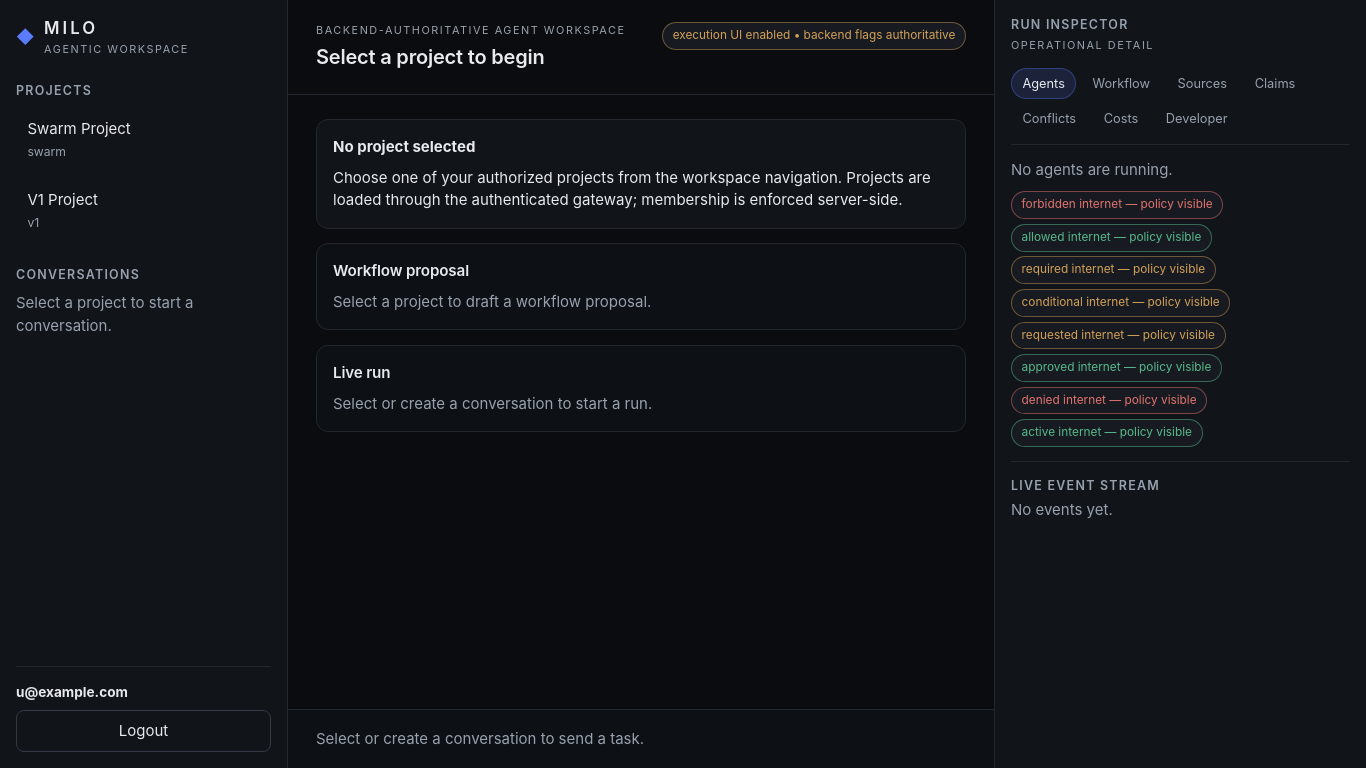
the Mapping Plan surface › shows how the words were read, in authored copy
Click the text "Swarm Project".
click(79, 128)  # box [27, 119, 131, 138]
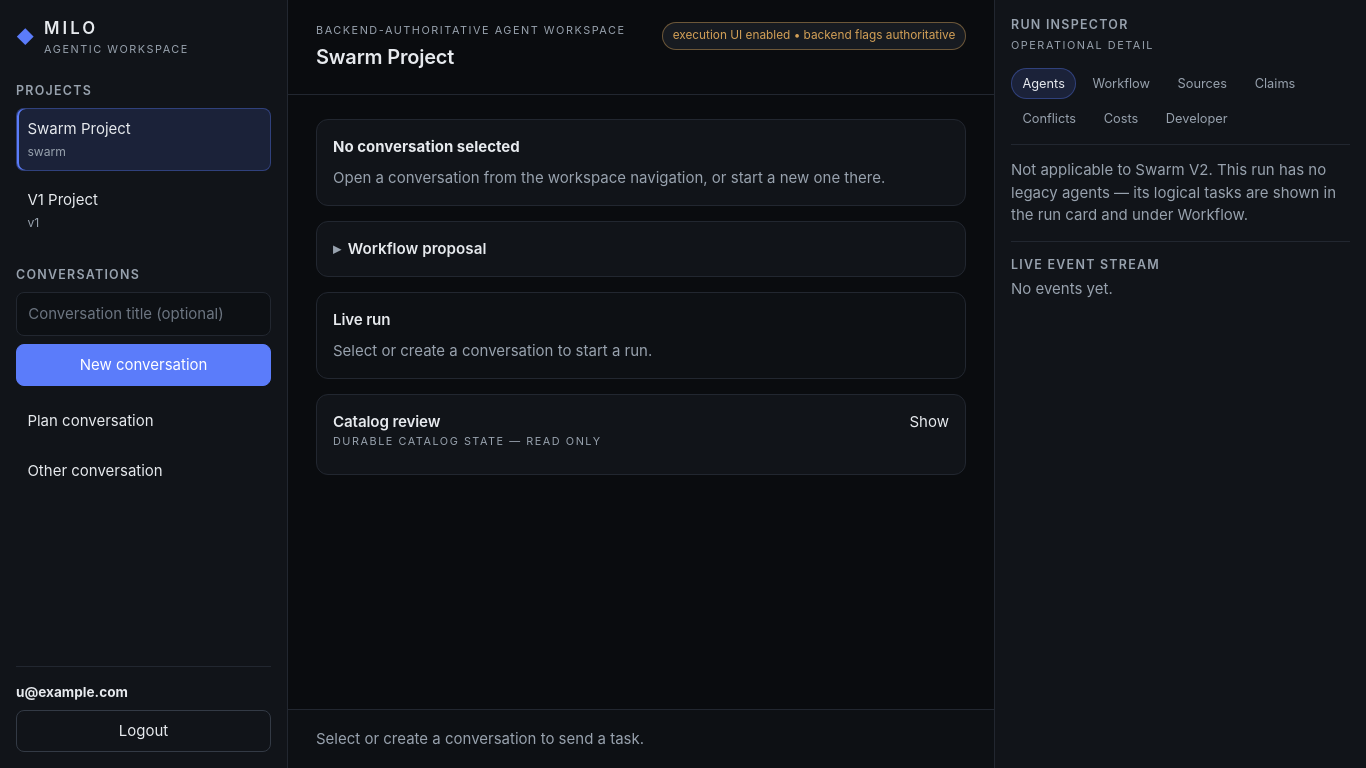
Click the button "Plan conversation".
click(144, 421)  # box [16, 400, 271, 442]
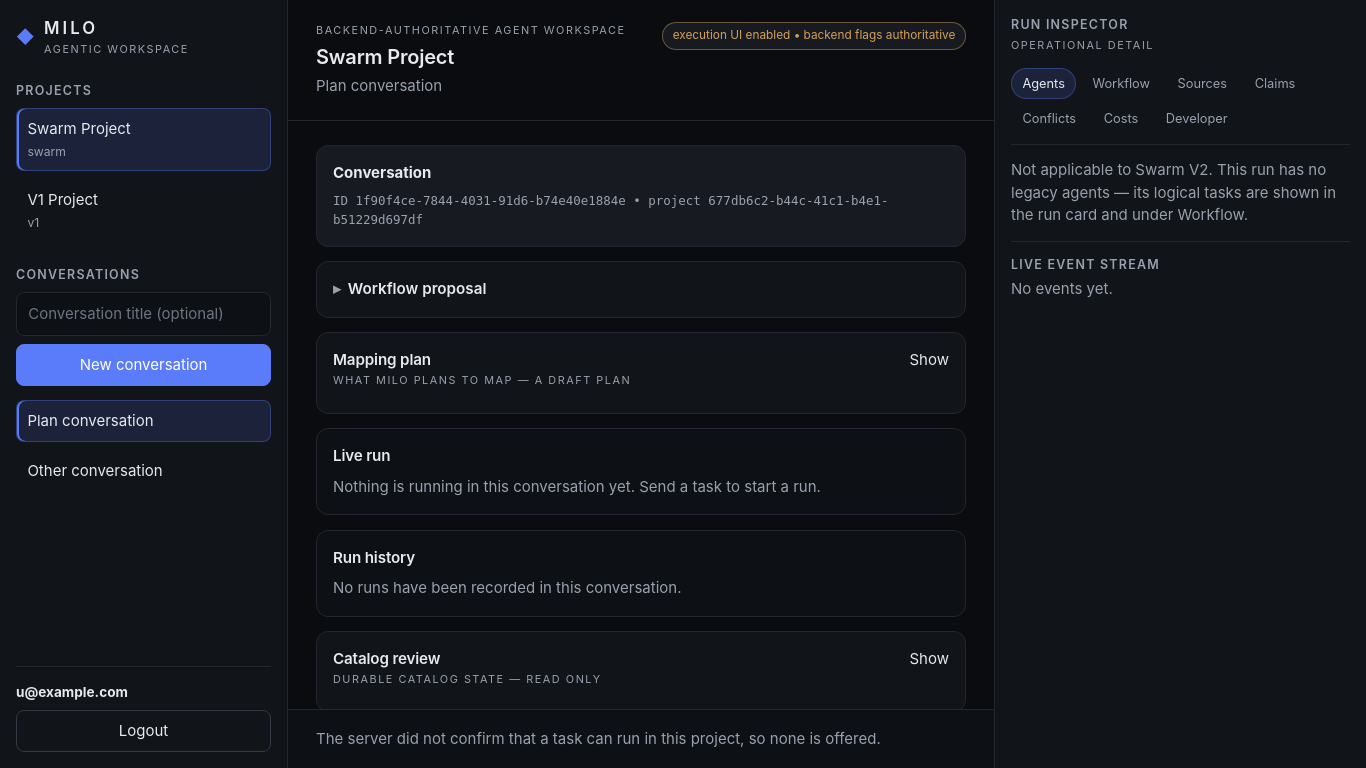
Click the button "Show" in the row of "Mapping plan".
click(929, 361)  # box [910, 350, 949, 372]
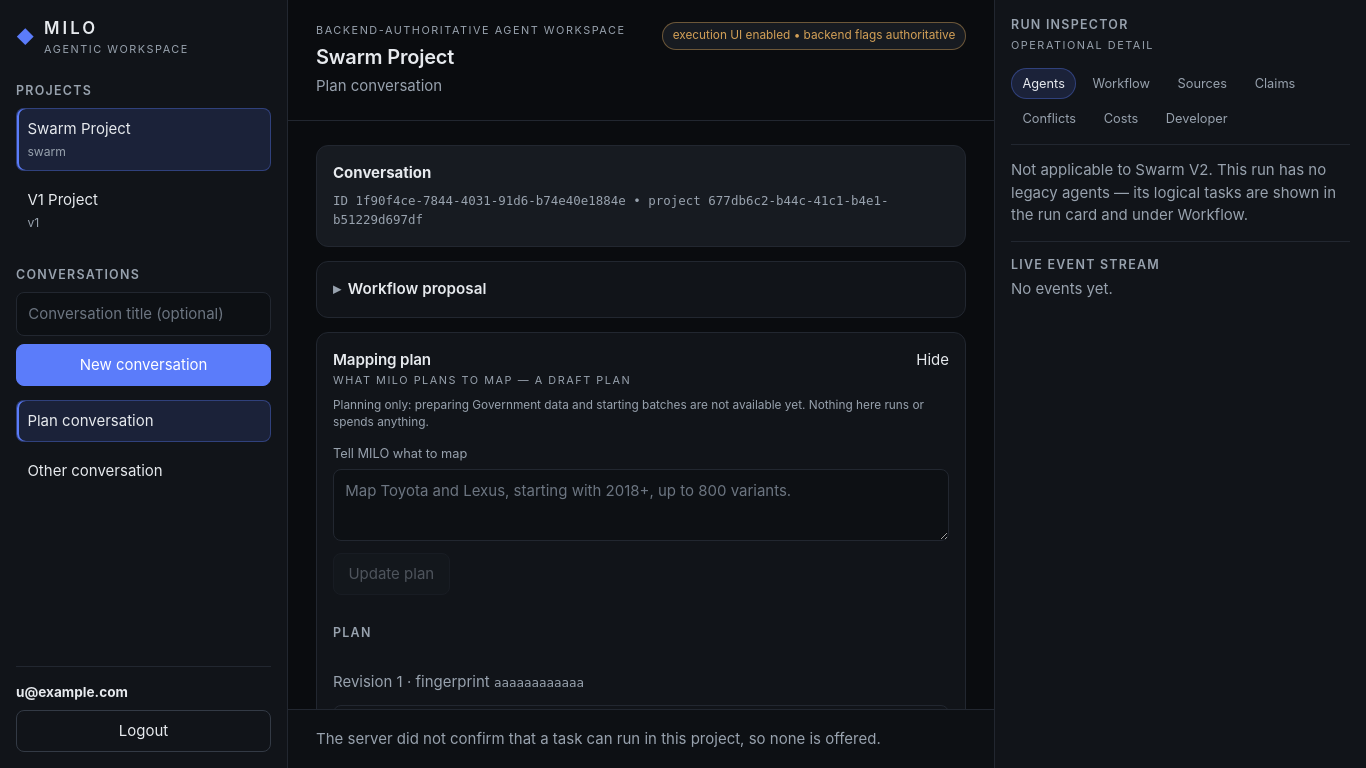
Replace the text in the text box labelled "Tell MILO what to map" with "Map Toyota and Polestar" at (641, 505), box [333, 469, 949, 541]
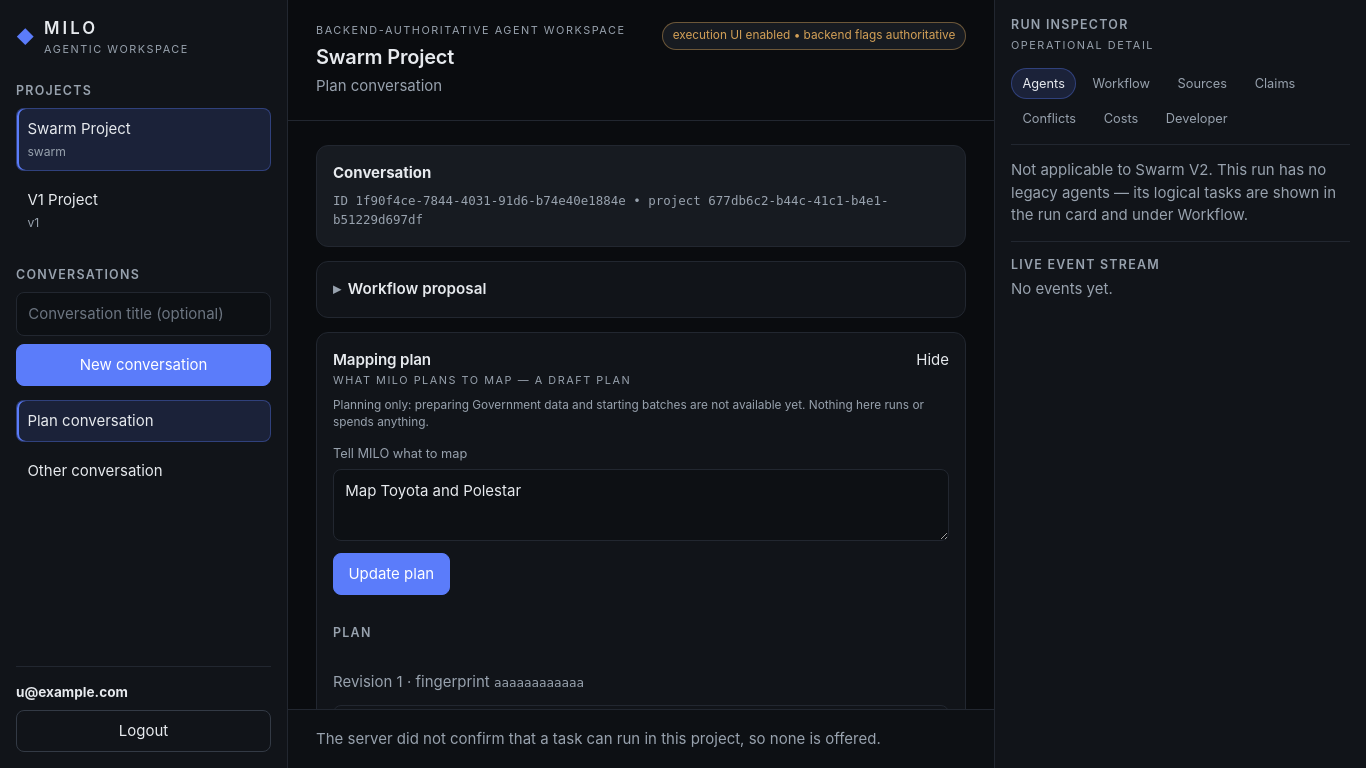
Click the button "Update plan".
click(391, 574)  # box [333, 553, 450, 595]
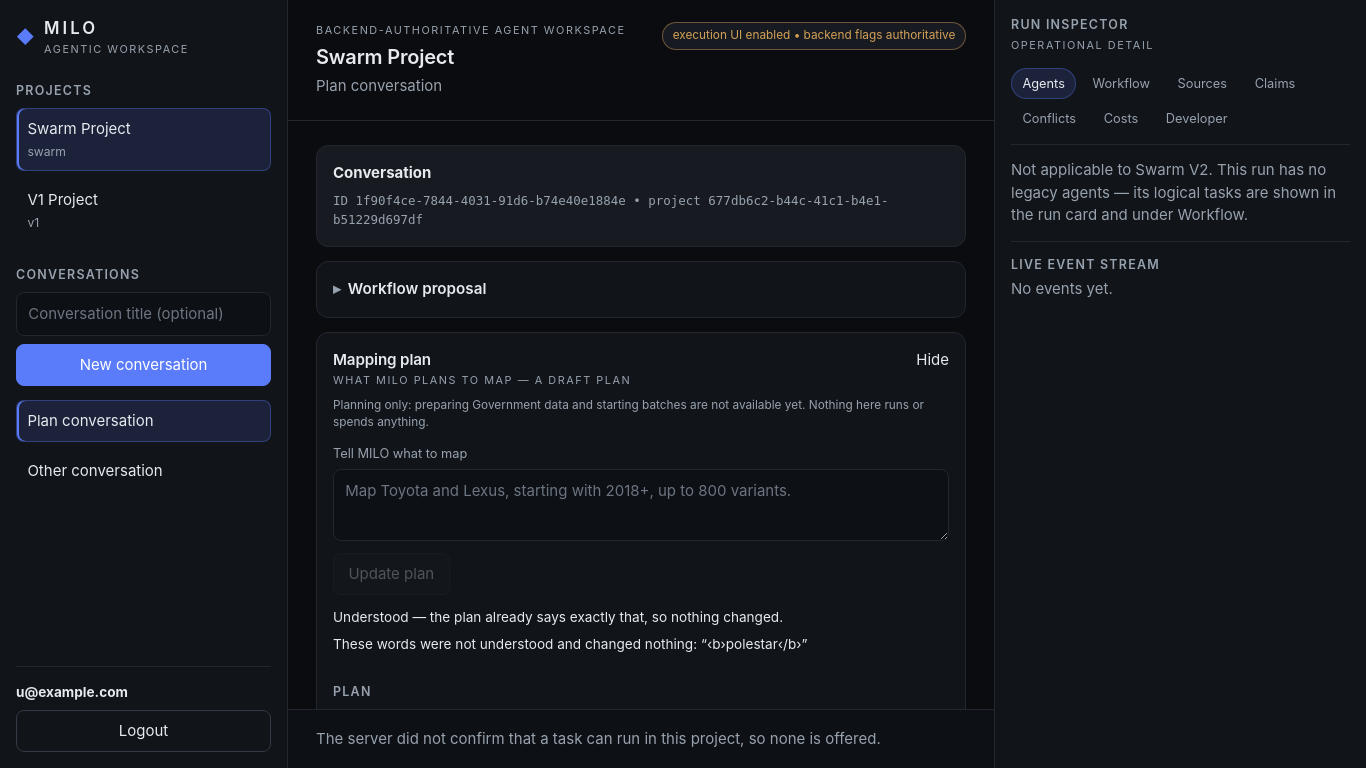
Now the list named "How the plan was read" shows "nothing changed", box [333, 609, 783, 625]
Now the list named "How the plan was read" shows "polestar", box [701, 636, 808, 652]
